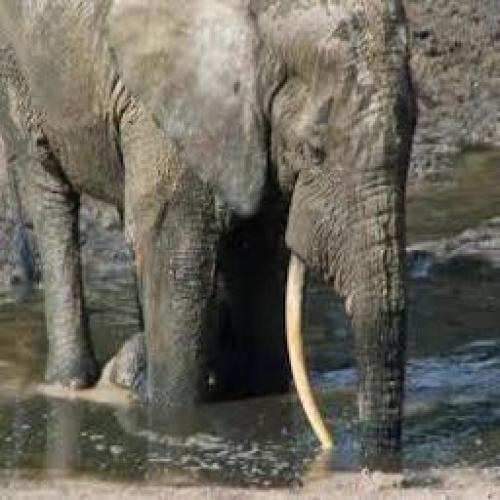african_elephant-endangered: (0, 0, 419, 480)
